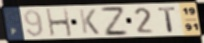2: (133, 7, 155, 34)
9: (23, 9, 45, 38)
H: (45, 7, 74, 38)
K: (78, 8, 101, 36)
T: (157, 6, 178, 34)
Z: (99, 6, 131, 38)
